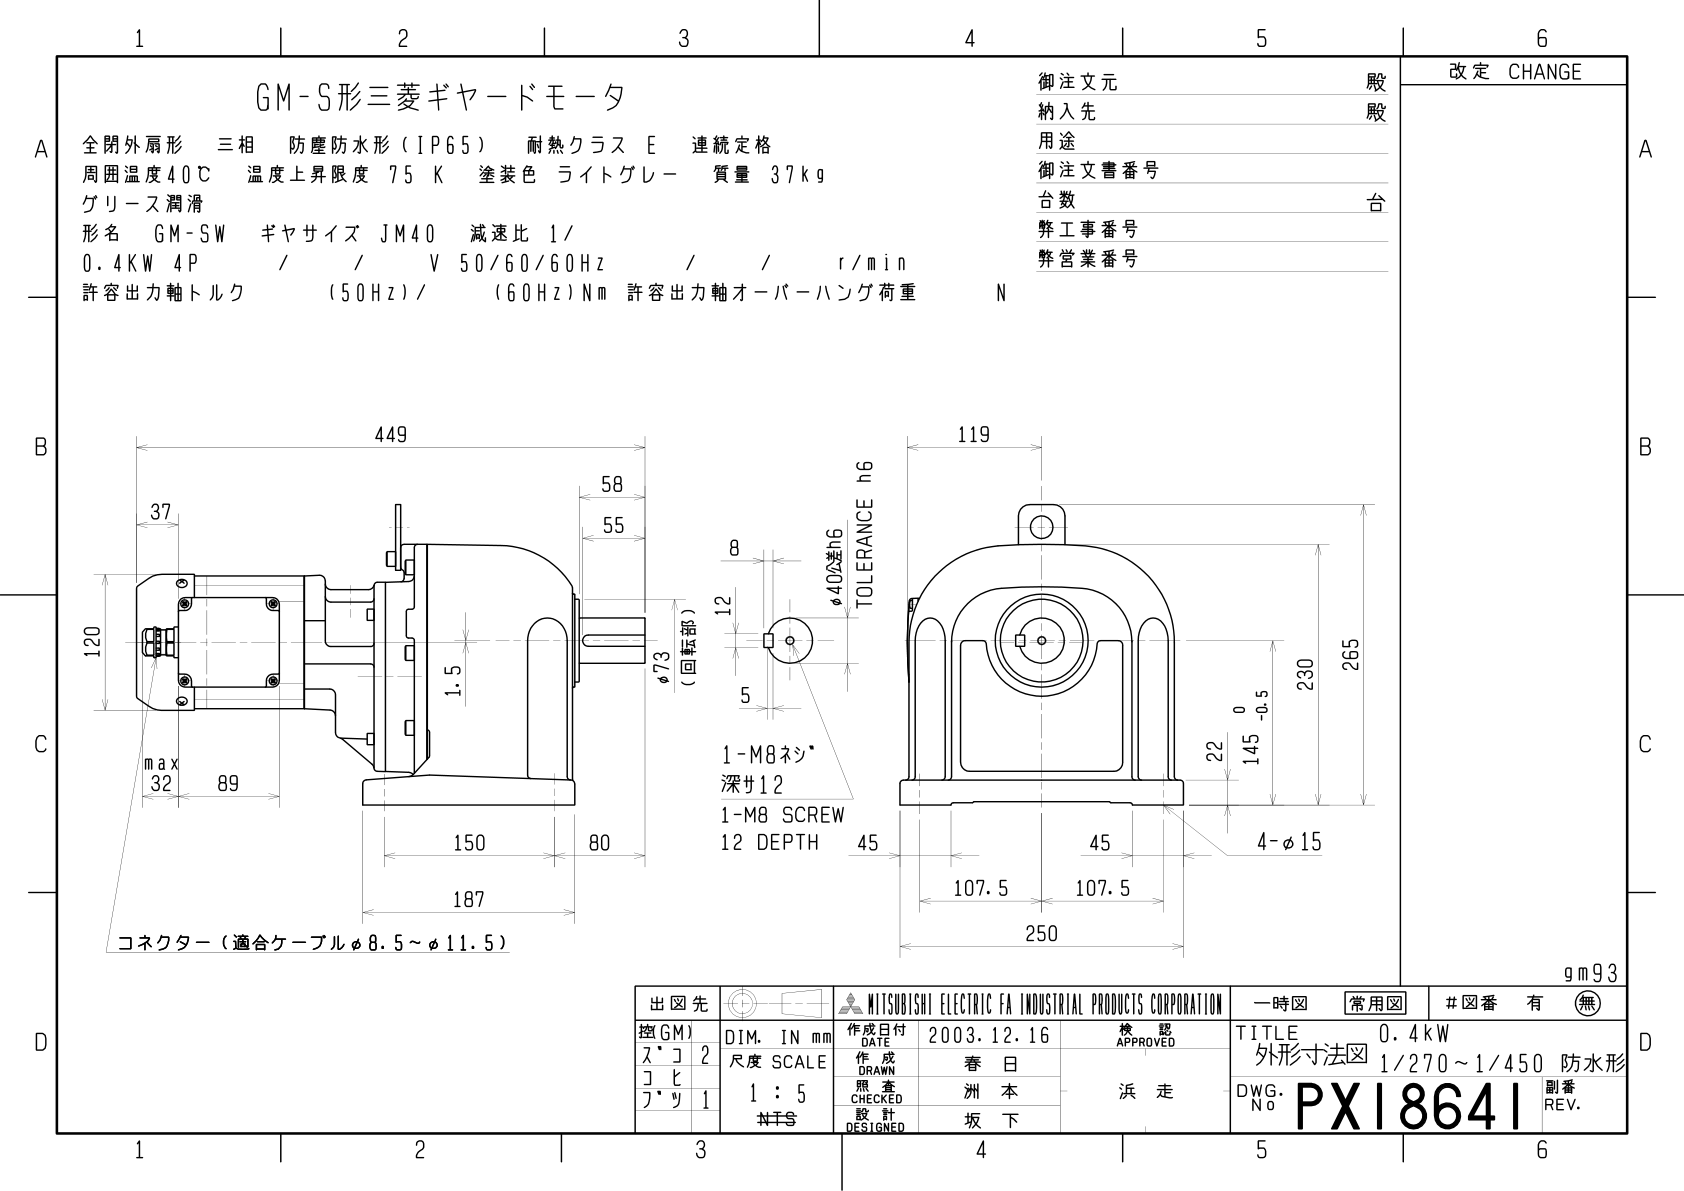GM_S_IP65＿三相_脚: (6, 13, 1684, 1191)
